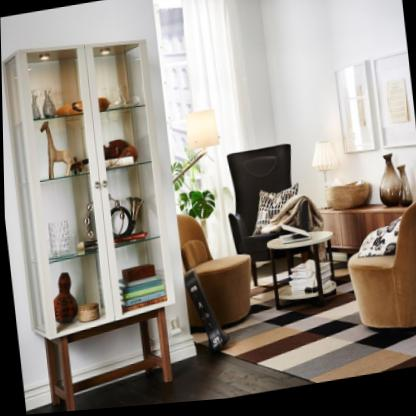Sofa: (337, 198, 416, 345)
Table: (262, 227, 342, 324)
